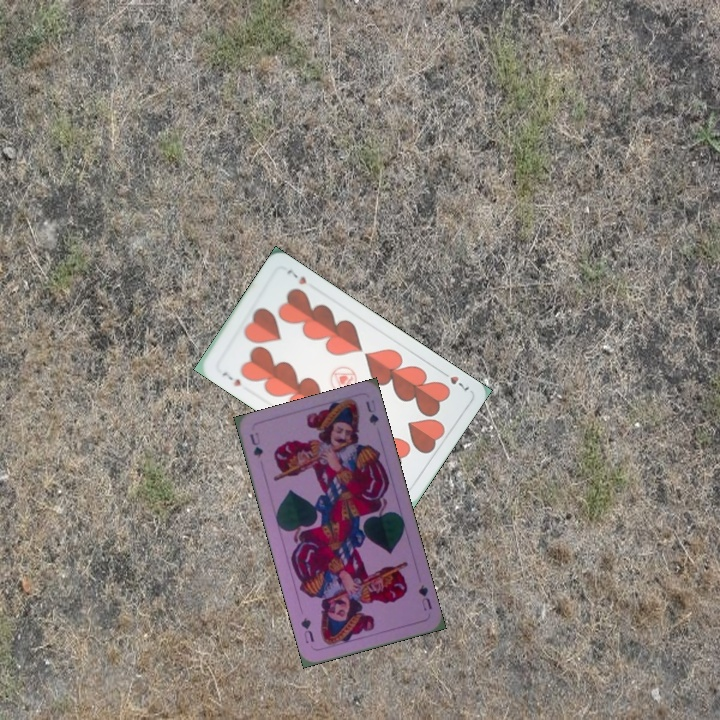GU: (246, 428, 266, 461), (414, 581, 434, 613)
H7: (436, 366, 472, 393), (218, 367, 243, 389)
